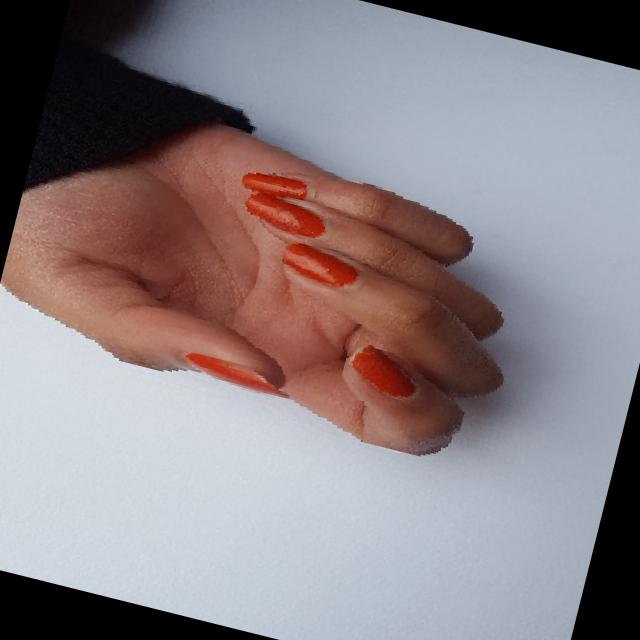Nail: (186, 352, 284, 395), (246, 191, 325, 238), (350, 344, 417, 399), (282, 242, 359, 287), (241, 172, 306, 200)
